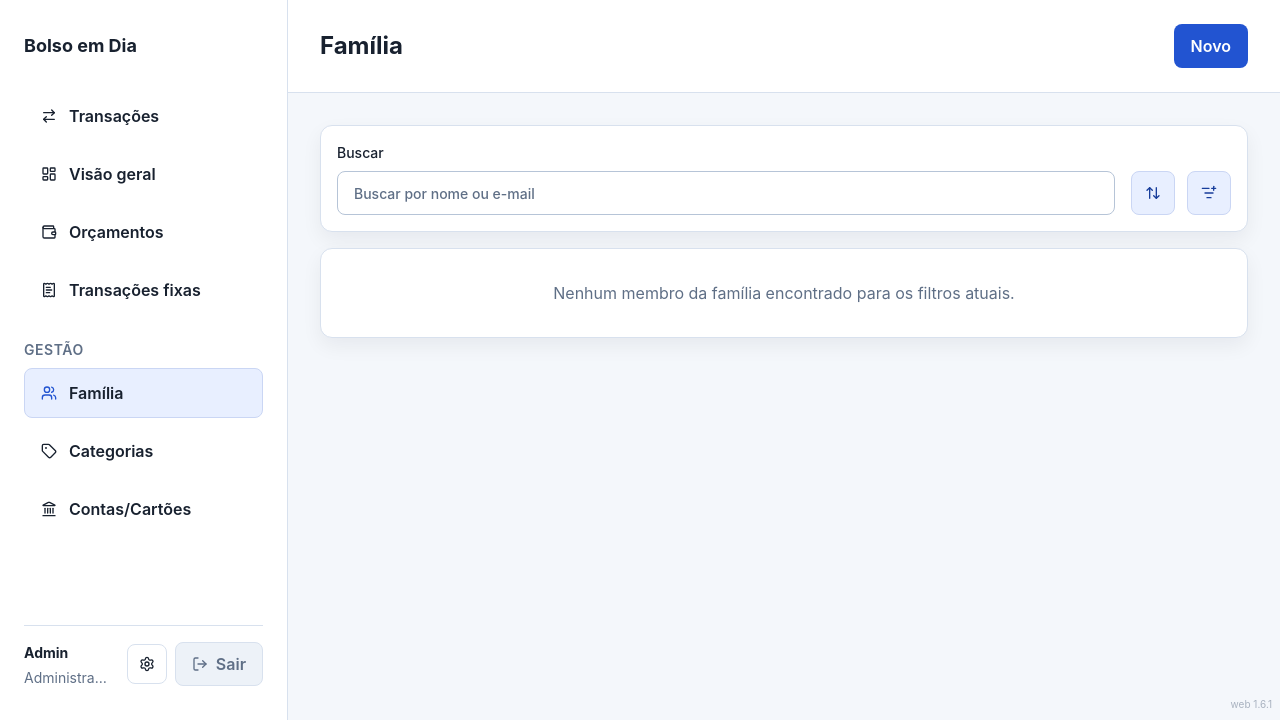
FamilyPage › shows session expired feedback and preserves typed values when submitting without token
The width and height of the screenshot is (1280, 720).
Click the button "Novo".
click(1211, 46)  # box [1174, 24, 1248, 68]
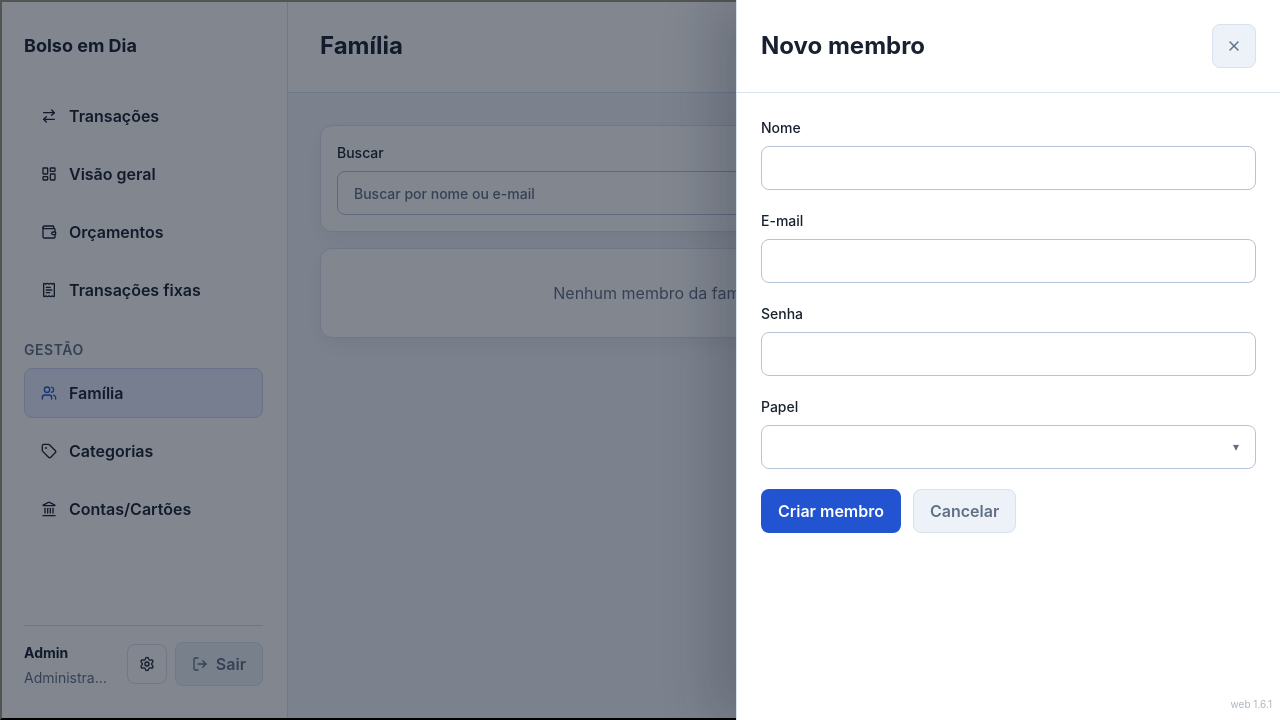
Type "Taylor" into the field labelled "Nome".
click(1008, 168); type("Taylor")  # box [761, 146, 1256, 190]
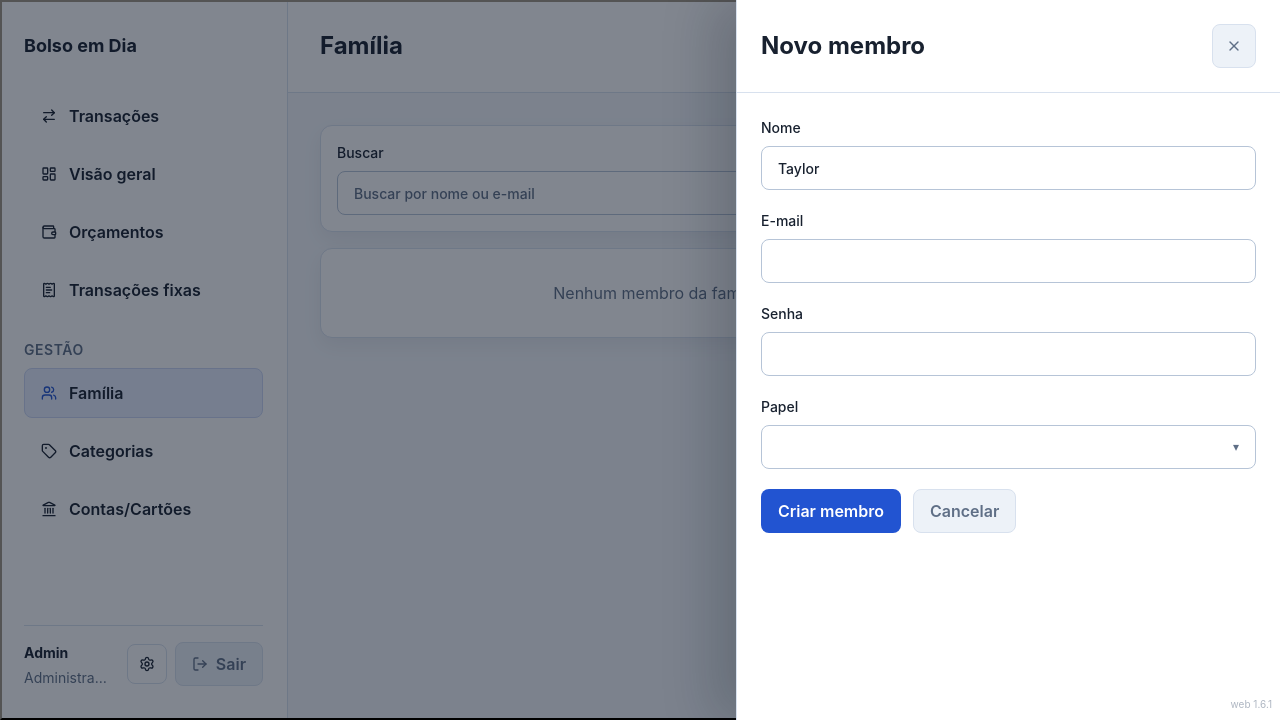
Type "taylor@local.test" into the field labelled "E-mail".
click(1008, 261); type("taylor@local.test")  # box [761, 239, 1256, 283]
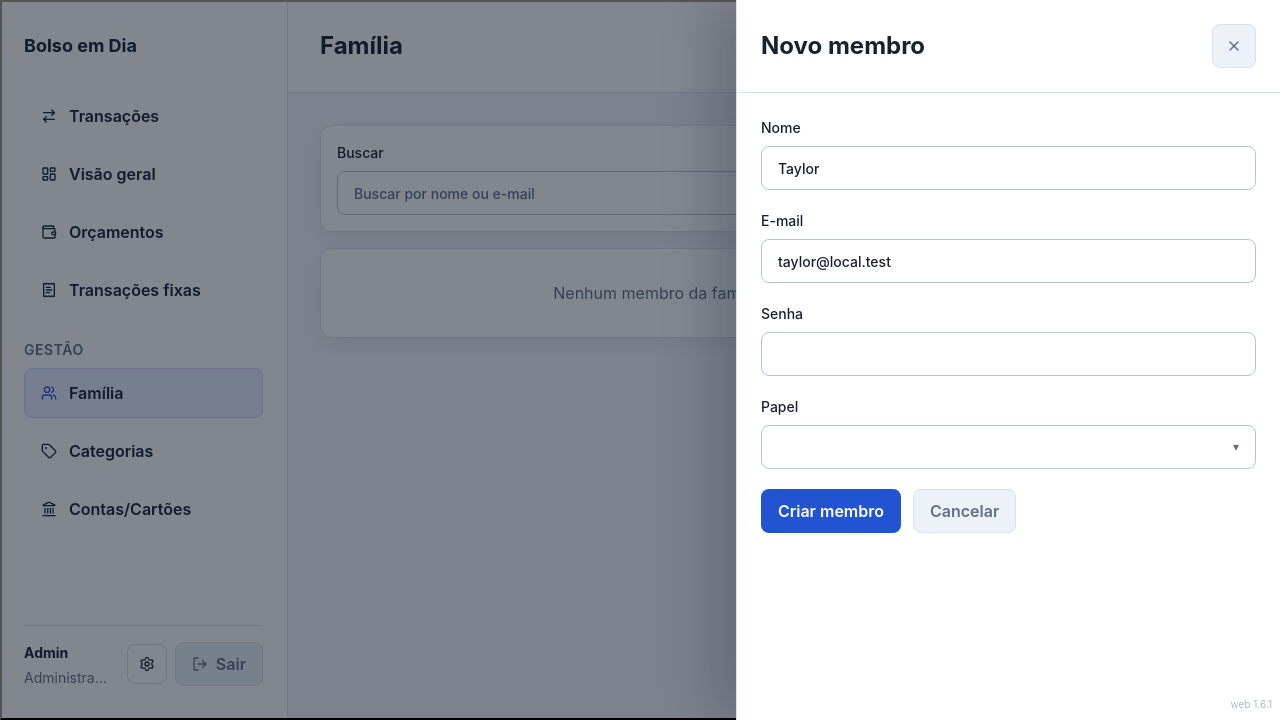
Type "password123" into the password field labelled "Senha".
click(1008, 354); type("password123")  # box [761, 332, 1256, 376]
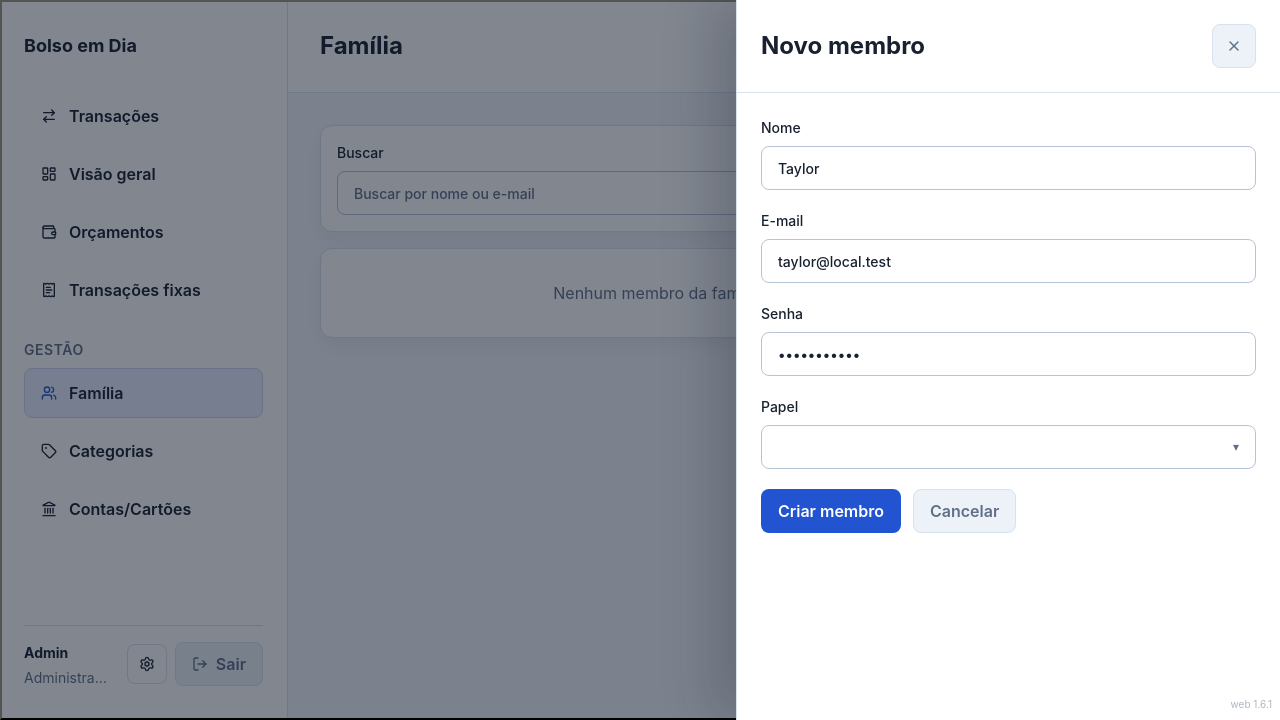
Click the button "Criar membro".
click(831, 511)  # box [761, 489, 901, 533]
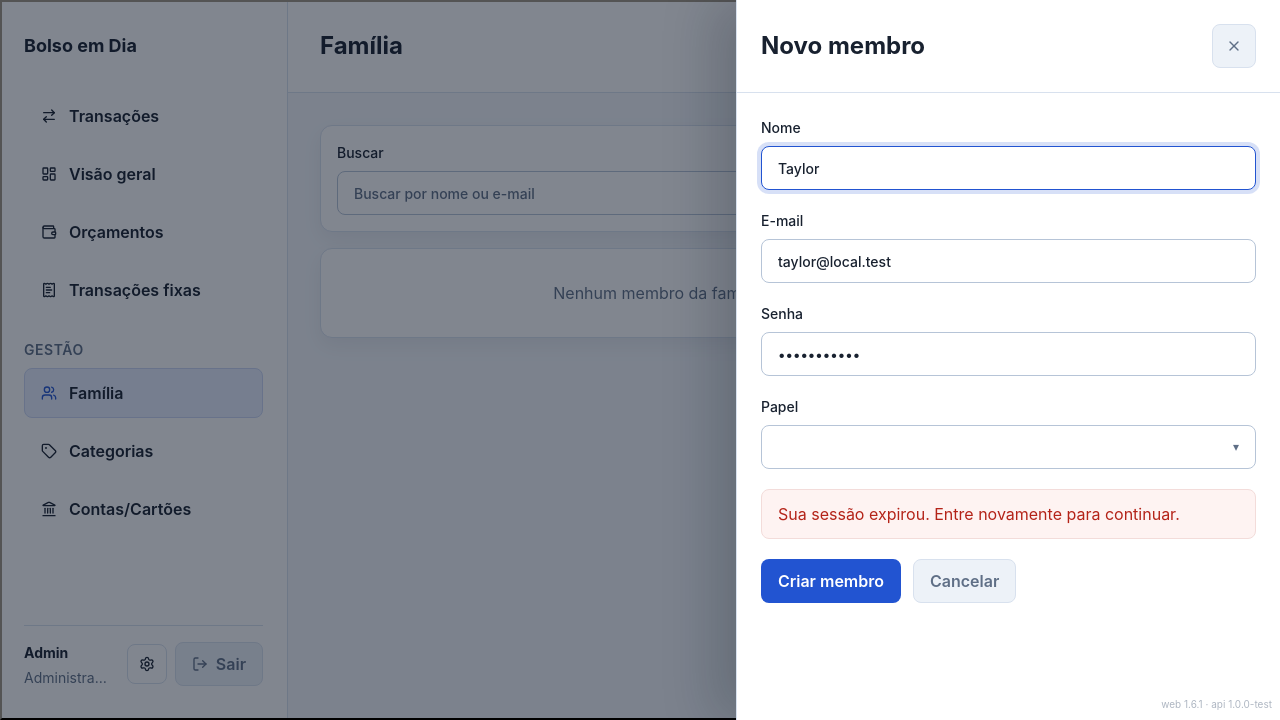
Expected: the text "Sua sessão expirou. Entre novamente para continuar." is shown, [761, 489, 1256, 539]
